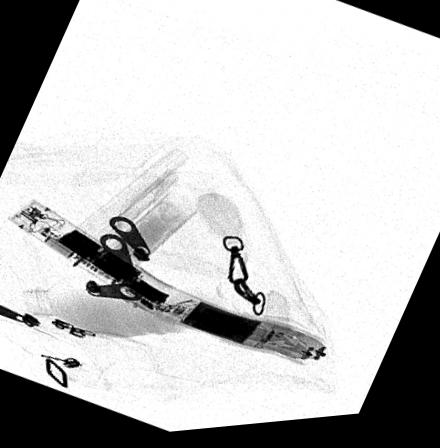Baton: (7, 197, 329, 371)
